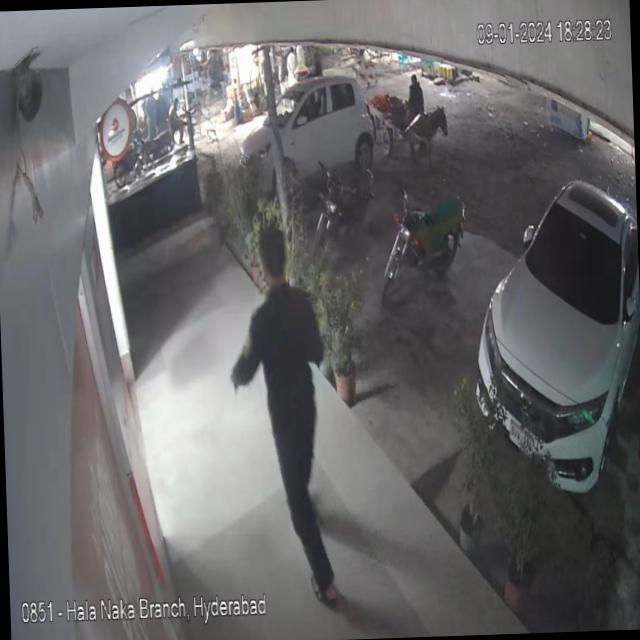Car: (467, 159, 640, 514), (236, 75, 393, 201)
Motorcycle: (363, 175, 470, 310), (302, 148, 374, 260)
